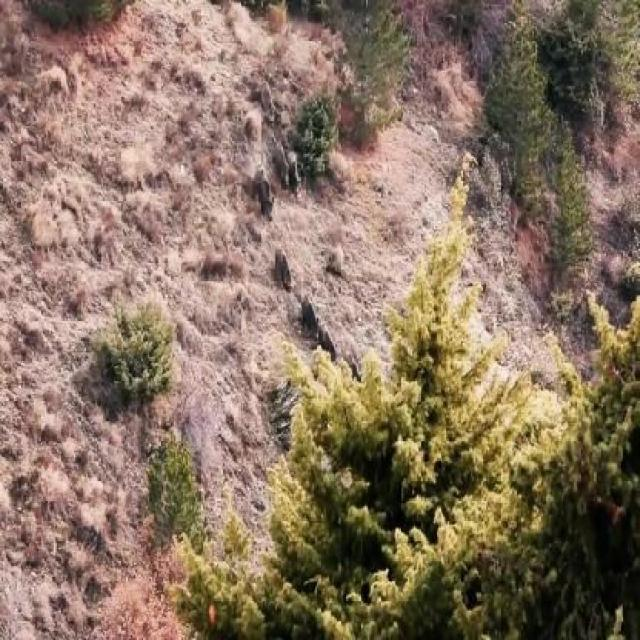pig: (245, 158, 277, 228), (251, 77, 279, 129), (296, 290, 326, 338), (284, 149, 304, 211), (271, 243, 294, 296), (275, 137, 291, 196)
